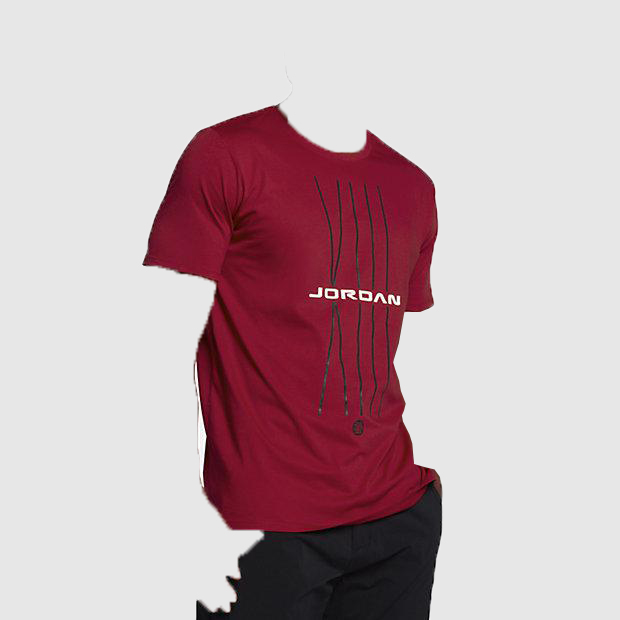teeshirt: (141, 102, 459, 534)
